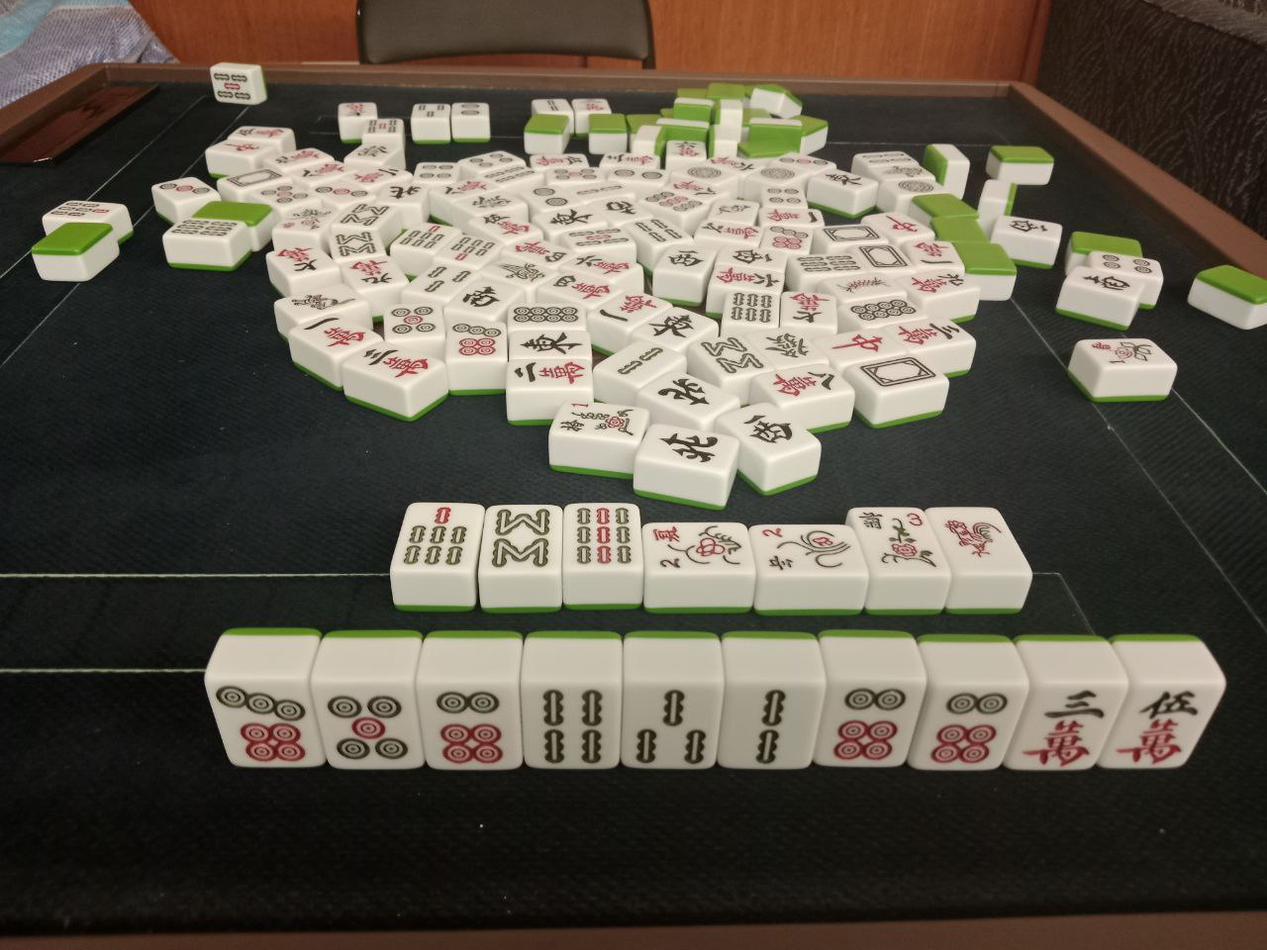TILE: (206, 680, 325, 769), (310, 681, 421, 764), (820, 680, 926, 766), (916, 681, 1021, 767), (419, 682, 522, 769), (624, 680, 724, 768), (725, 678, 822, 768), (1116, 686, 1221, 767), (523, 682, 622, 767), (1020, 685, 1115, 768), (943, 505, 1035, 575), (389, 502, 483, 567), (851, 509, 943, 575), (641, 522, 755, 572), (751, 523, 865, 570), (483, 507, 561, 571), (564, 504, 644, 565)
